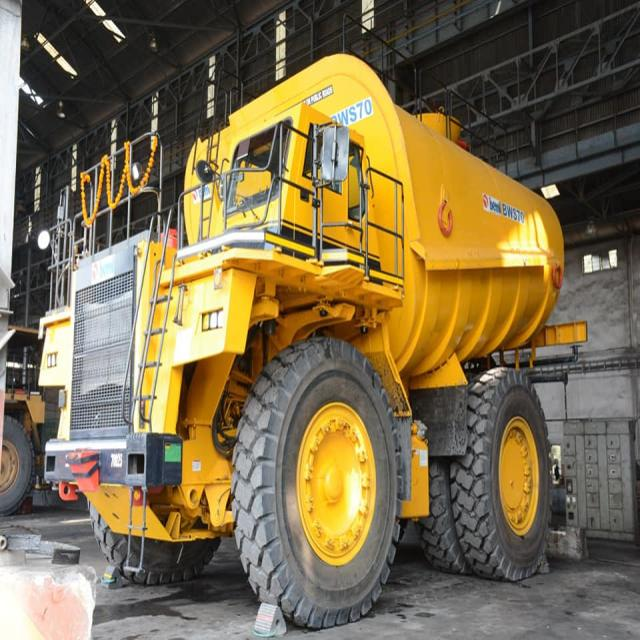dump_truck: (55, 58, 562, 624), (5, 320, 42, 516)
